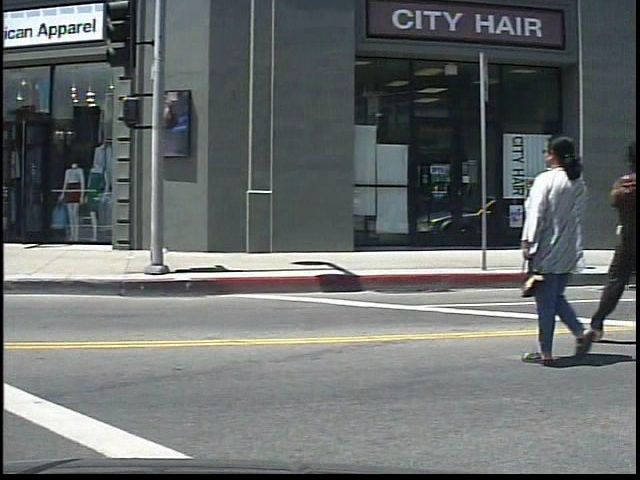person: (524, 119, 616, 369)
